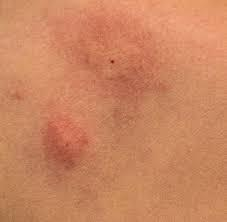Tick: (73, 13, 170, 111), (38, 112, 91, 177)
